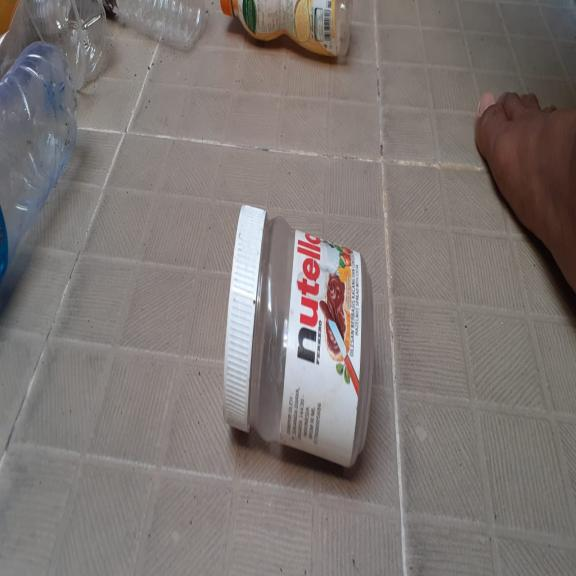Plastik: (0, 42, 77, 305), (218, 0, 354, 69), (104, 0, 207, 57)
